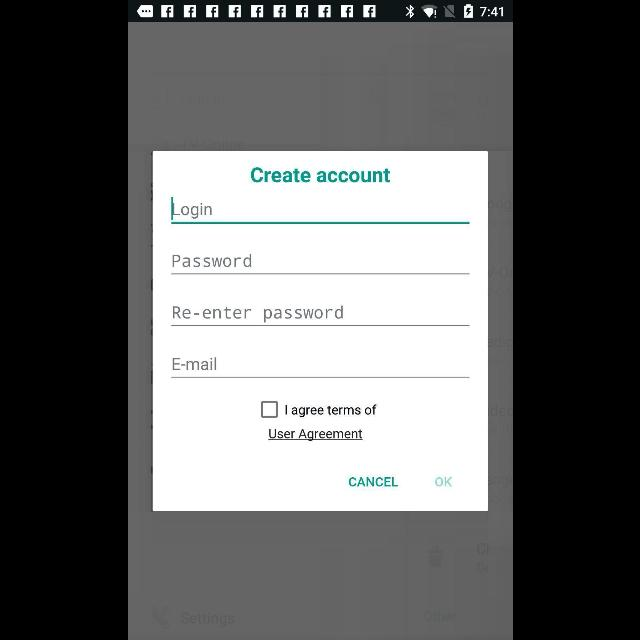checkbox: (260, 401, 278, 417)
input: (171, 198, 469, 224), (171, 254, 469, 274), (171, 306, 469, 326), (171, 358, 469, 378)
panel: (152, 151, 486, 511)
text: (172, 306, 342, 322), (250, 168, 390, 182), (284, 404, 376, 418), (268, 429, 362, 441), (172, 255, 250, 268), (172, 203, 212, 219), (172, 358, 216, 370), (348, 478, 398, 487), (435, 478, 451, 487)
uppertaskbar: (128, 0, 512, 22)
